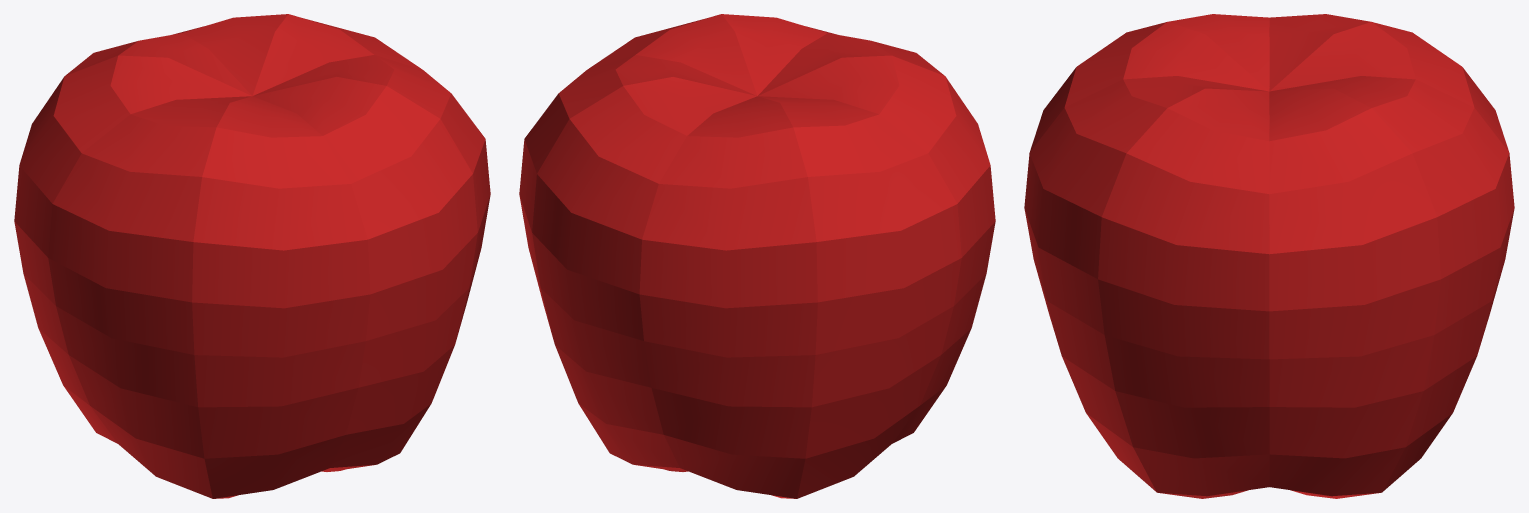
Rendered from mesh_applecuts.fbx.
The picture shows the model from 3 angles, left to right: view 1: azimuth 30°, elevation 25°; view 2: azimuth 150°, elevation 25°; view 3: azimuth 270°, elevation 25°; orthographic projection. The views are drawn at different scales.
Visible parts, largest first — view 1: mesh_appleslice1_cut4, mesh_appleslice1_cut3, mesh_appleslice1_cut5, mesh_appleslice2_cut3, mesh_appleslice2_cut4, mesh_appleslice1_cut6, mesh_appleslice1_cut7, mesh_appleslice8_cut3, mesh_appleslice2_cut5, mesh_appleslice1_cut2, mesh_appleslice2_cut6, mesh_appleslice8_cut4 (+29 smaller); view 2: mesh_appleslice4_cut4, mesh_appleslice4_cut3, mesh_appleslice4_cut5, mesh_appleslice3_cut3, mesh_appleslice3_cut4, mesh_appleslice4_cut6, mesh_appleslice4_cut7, mesh_appleslice5_cut3, mesh_appleslice3_cut5, mesh_appleslice4_cut2, mesh_appleslice3_cut6, mesh_appleslice5_cut4 (+29 smaller); view 3: mesh_appleslice7_cut3, mesh_appleslice6_cut3, mesh_appleslice6_cut4, mesh_appleslice7_cut4, mesh_appleslice6_cut5, mesh_appleslice7_cut5, mesh_appleslice7_cut6, mesh_appleslice6_cut6, mesh_appleslice7_cut7, mesh_appleslice6_cut7, mesh_appleslice6_cut2, mesh_appleslice7_cut2 (+28 smaller).
Boxes of the visible parts, x1,y1,x2,y2 form: mesh_appleslice1_cut4: (192,239,370,308); mesh_appleslice1_cut3: (193,177,367,250); mesh_appleslice1_cut5: (192,294,370,357); mesh_appleslice2_cut3: (53,153,201,241); mesh_appleslice2_cut4: (48,204,193,302); mesh_appleslice1_cut6: (194,341,365,407); mesh_appleslice1_cut7: (198,388,358,458); mesh_appleslice8_cut3: (351,119,472,239); mesh_appleslice2_cut5: (48,258,194,354); mesh_appleslice1_cut2: (202,127,350,188); mesh_appleslice2_cut6: (56,306,197,407); mesh_appleslice8_cut4: (368,174,477,294); mesh_appleslice4_cut4: (639,239,817,308); mesh_appleslice4_cut3: (642,177,816,250); mesh_appleslice4_cut5: (639,294,817,357); mesh_appleslice3_cut3: (808,153,956,241); mesh_appleslice3_cut4: (816,204,961,302); mesh_appleslice4_cut6: (644,341,815,407); mesh_appleslice4_cut7: (651,388,811,458); mesh_appleslice5_cut3: (537,119,658,239); mesh_appleslice3_cut5: (815,258,961,354); mesh_appleslice4_cut2: (659,127,807,188); mesh_appleslice3_cut6: (812,306,953,407); mesh_appleslice5_cut4: (532,174,641,294); mesh_appleslice7_cut3: (1102,153,1269,254); mesh_appleslice6_cut3: (1269,153,1436,253); mesh_appleslice6_cut4: (1269,217,1440,311); mesh_appleslice7_cut4: (1098,217,1269,311); mesh_appleslice6_cut5: (1269,279,1440,359); mesh_appleslice7_cut5: (1098,279,1269,359); mesh_appleslice7_cut6: (1104,335,1269,407); mesh_appleslice6_cut6: (1269,335,1434,407); mesh_appleslice7_cut7: (1115,391,1269,458); mesh_appleslice6_cut7: (1269,391,1423,458); mesh_appleslice6_cut2: (1269,108,1412,194); mesh_appleslice7_cut2: (1126,108,1269,193).
Bounding box in the file's own units: 0.246 × 0.2266 × 0.246.
